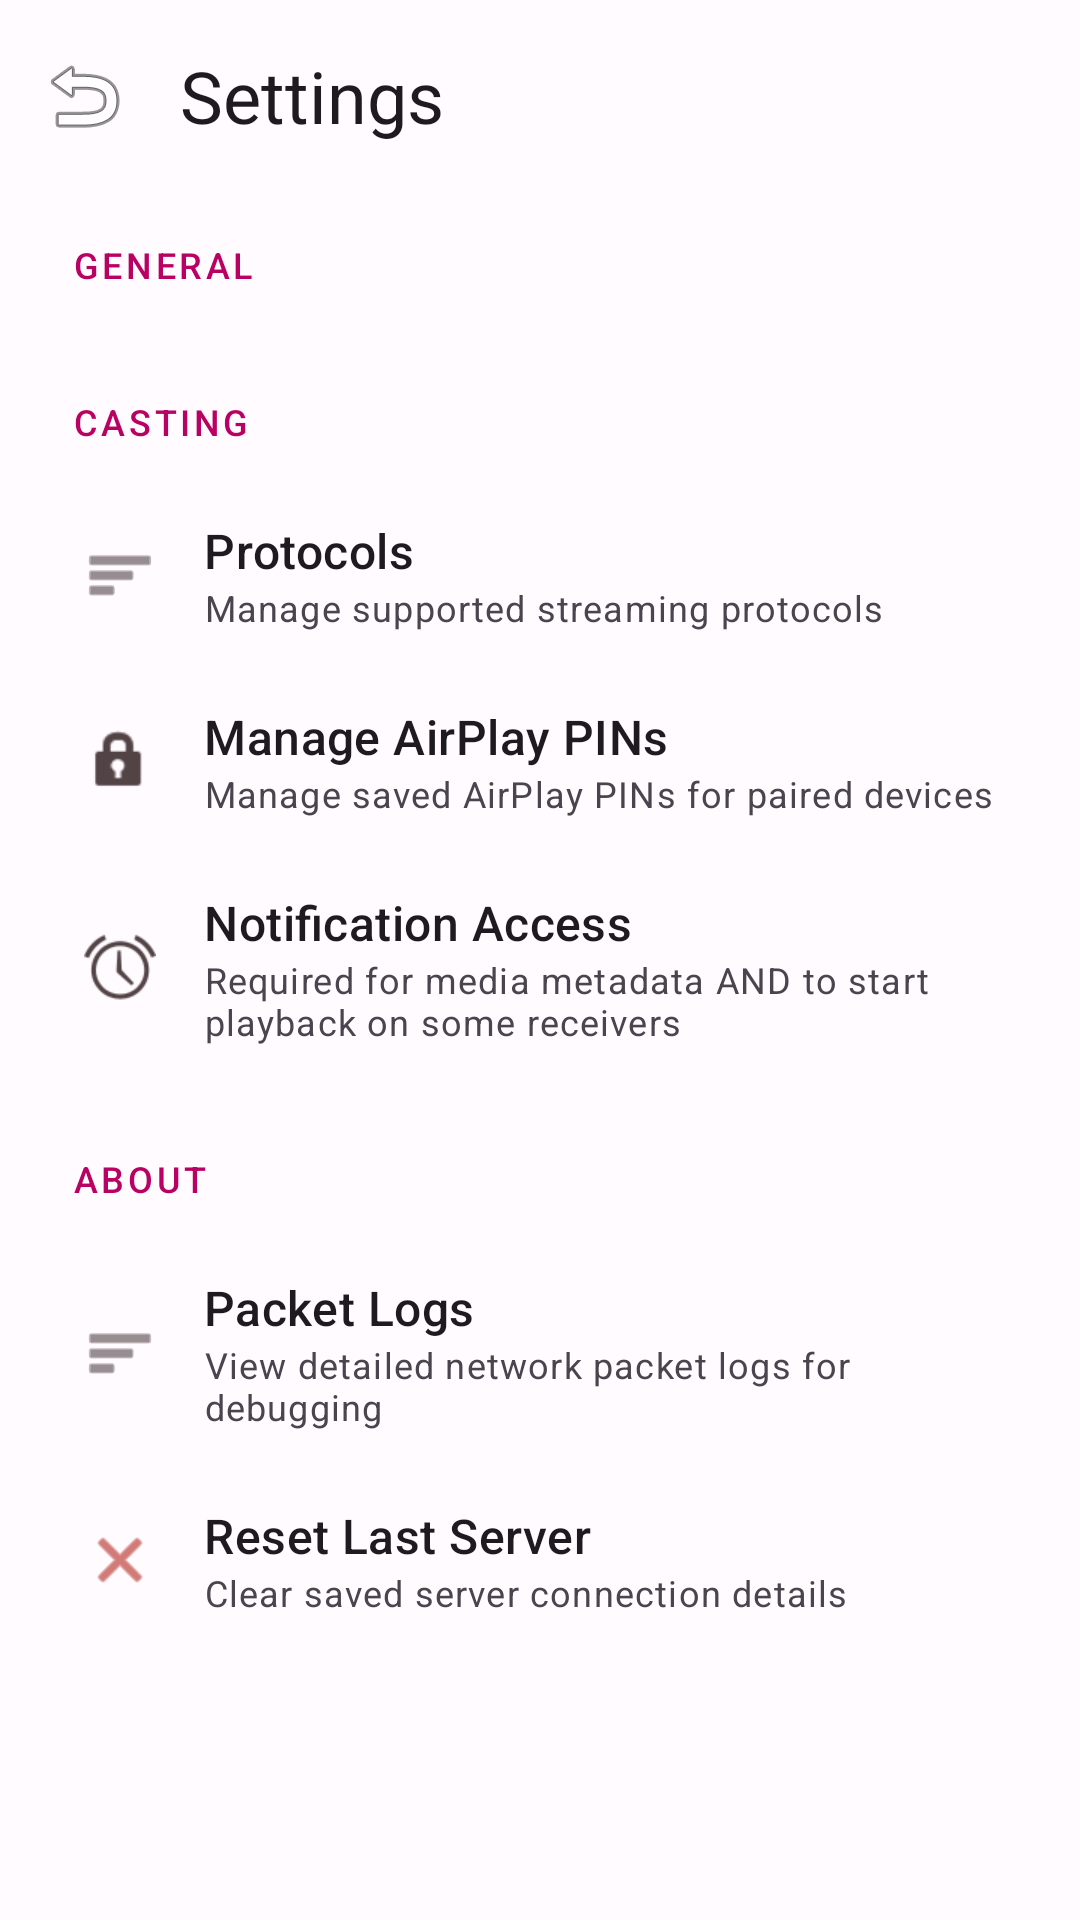

Icon bounding boxes for this 1080 × 1920 phone screenshot, format (x1, y1, x2, y2):
close clear cancel: (97, 1537, 143, 1583)
lock idle: (95, 731, 142, 786)
sort by size: (89, 555, 151, 596), (89, 1333, 151, 1374)
